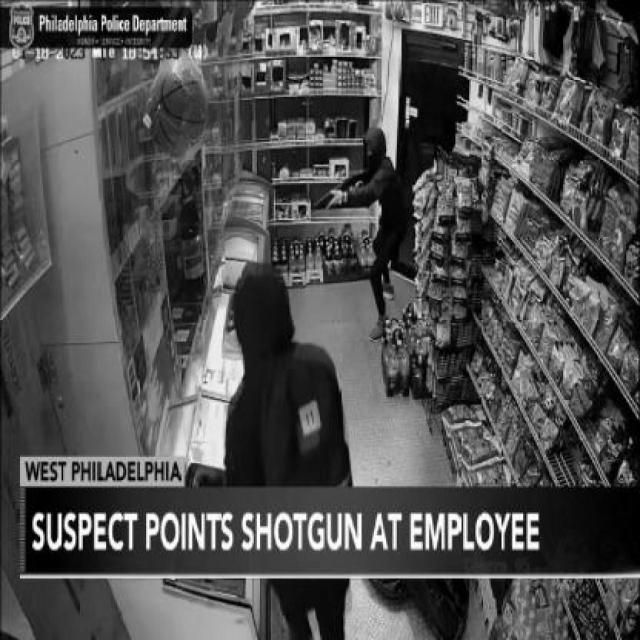weapon: (311, 167, 384, 212)
